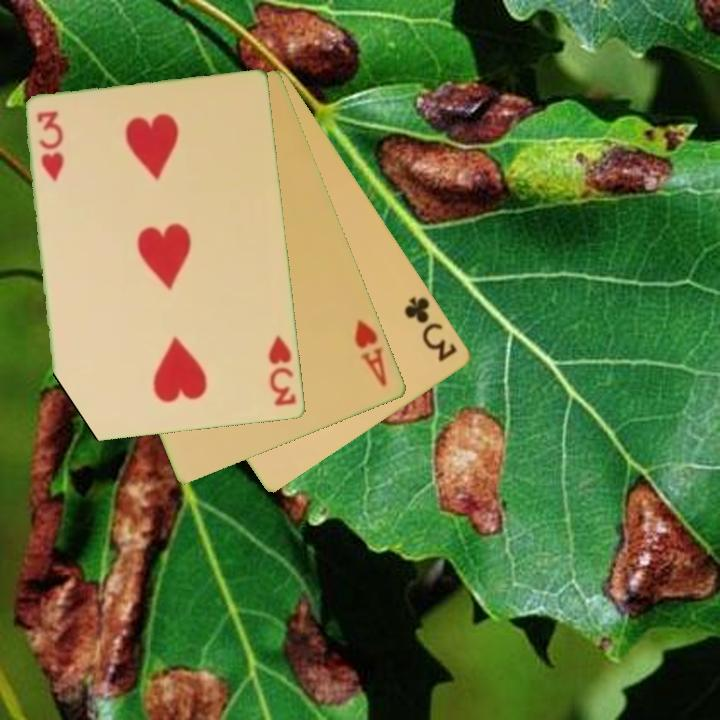3c: (401, 292, 461, 365)
3h: (265, 333, 300, 409), (34, 107, 67, 185)
Ah: (351, 315, 390, 390)
